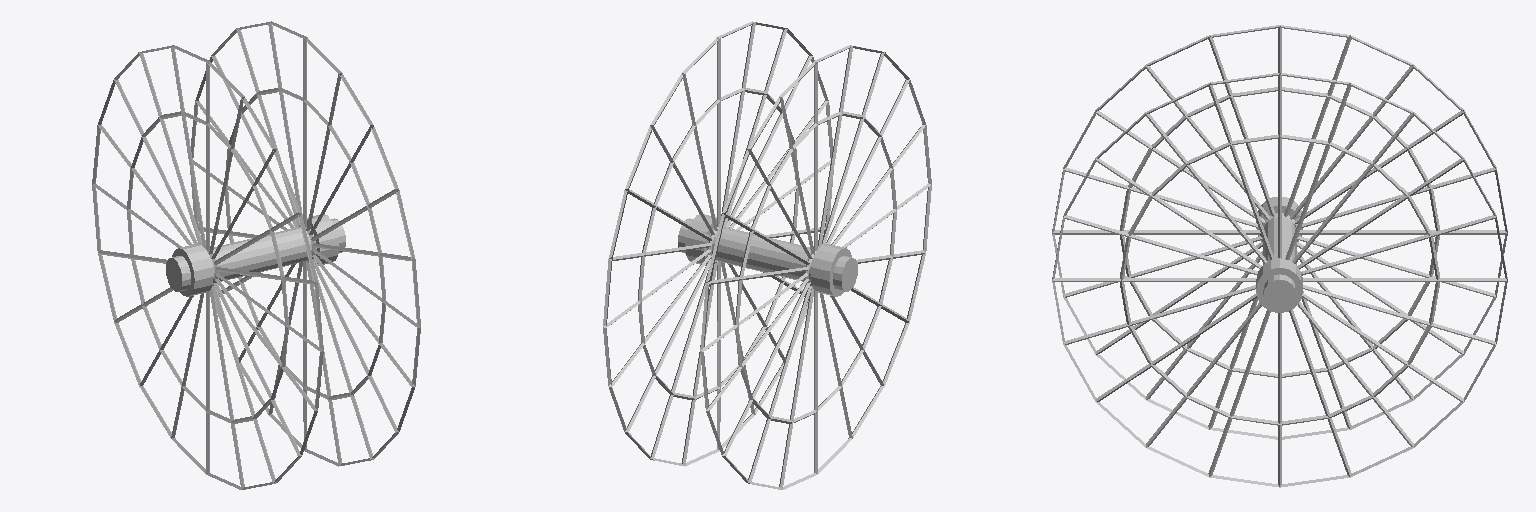
Rendered from wheel.obj.
The picture shows the model from 3 angles: view 1: azimuth 30°, elevation 25°; view 2: azimuth 150°, elevation 25°; view 3: azimuth 270°, elevation 25°; orthographic projection.
Visible parts, largest first — view 1: Cylinder.005; view 2: Cylinder.005; view 3: Cylinder.005.
Boxes of the visible parts, x1,y1,x2,y2 form: Cylinder.005: [92, 21, 420, 489]; Cylinder.005: [603, 21, 931, 489]; Cylinder.005: [1052, 25, 1507, 487].
Size of the model in its own units: 0.8302 by 2 by 2.